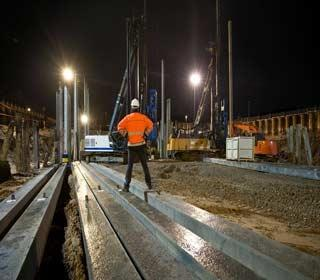Vest: (124, 114, 146, 145)
